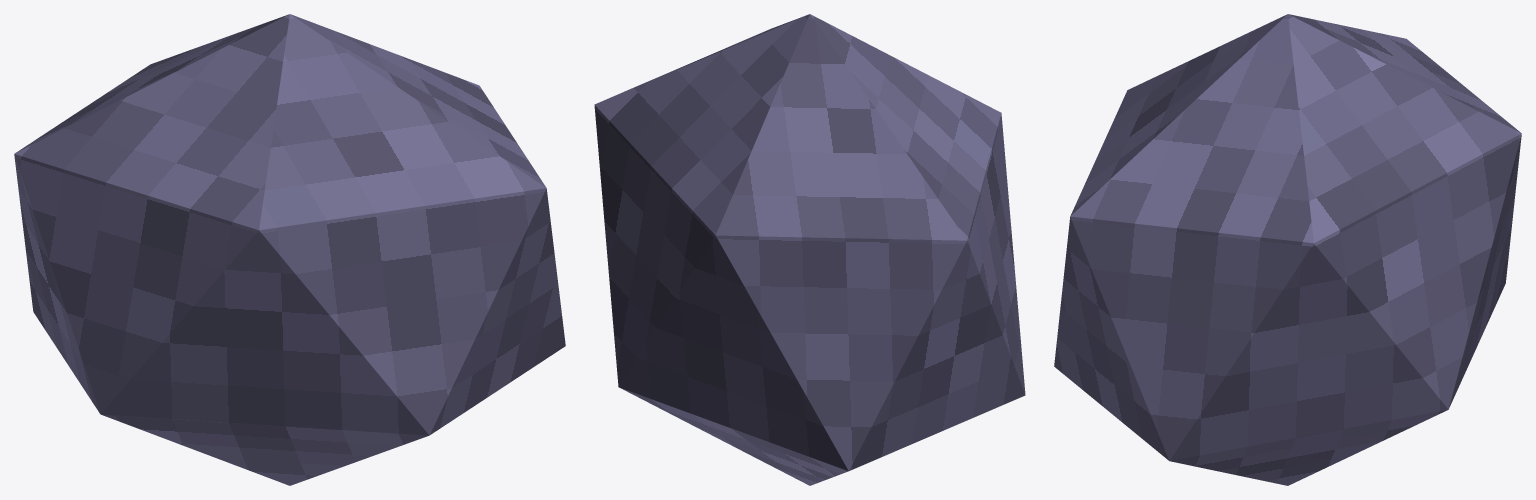
Rendered from rock_30.glb.
The picture shows the model from 3 angles, left to right: view 1: azimuth 30°, elevation 25°; view 2: azimuth 150°, elevation 25°; view 3: azimuth 270°, elevation 25°; orthographic projection.
Parts seen in each view (by area): view 1: WeatheredStone; view 2: WeatheredStone; view 3: WeatheredStone.
Part boxes in pixels (x1,y1,x2,y2): WeatheredStone: (14,14,565,485); WeatheredStone: (594,14,1025,485); WeatheredStone: (1054,14,1521,485).
Size of the model in its own units: 1.5 by 1.56 by 1.4.
Materials: 1 (1 with a texture image).
